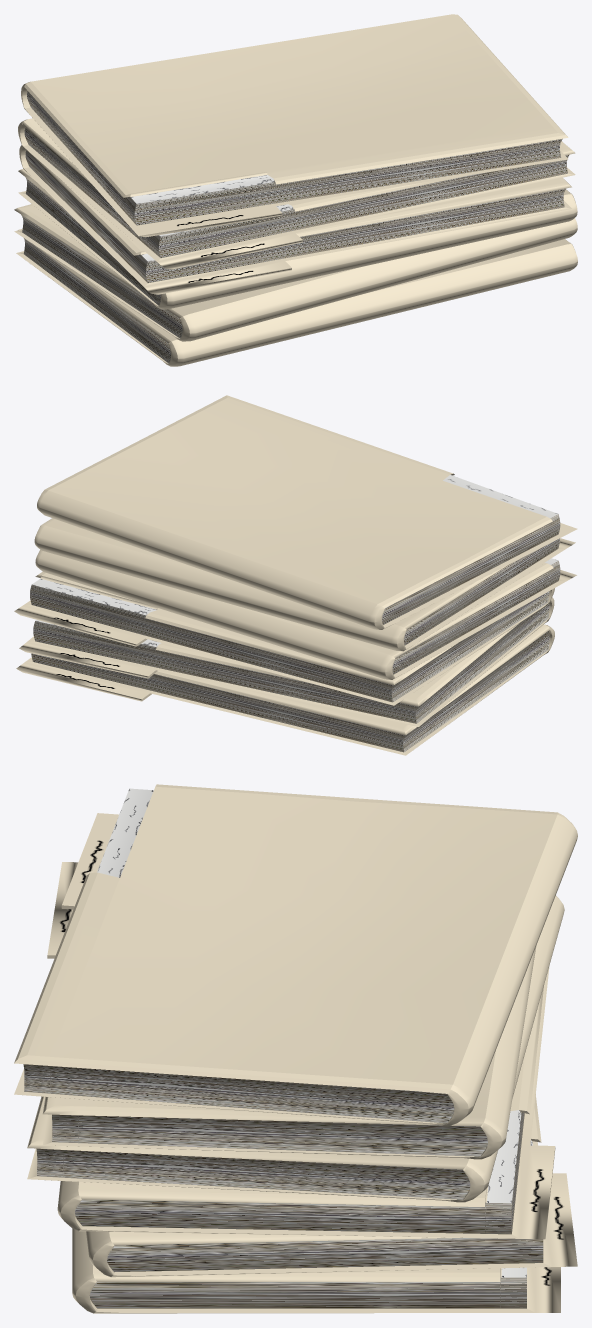
Rendered from AP_FilePile2_CS.fbx.
3 views of the same model, one above another, from view 1: azimuth 30°, elevation 25°; view 2: azimuth 150°, elevation 25°; view 3: azimuth 270°, elevation 25° (orthographic). The views are drawn at different scales.
Parts seen in each view (by area): view 1: filefolder9, filefolder7, filefolder, filefolder5, filefolder8, filefolder6; view 2: filefolder9, filefolder6, filefolder7, filefolder5, filefolder, filefolder8; view 3: filefolder9, filefolder6, filefolder8, filefolder7, filefolder, filefolder5.
Part boxes in pixels (x1=…): filefolder9: x1=21, y1=14, x2=568, y2=237; filefolder7: x1=19, y1=145, x2=571, y2=294; filefolder: x1=16, y1=229, x2=577, y2=366; filefolder5: x1=14, y1=204, x2=577, y2=341; filefolder8: x1=18, y1=118, x2=575, y2=269; filefolder6: x1=18, y1=169, x2=577, y2=309; filefolder9: x1=37, y1=395, x2=577, y2=629; filefolder6: x1=14, y1=571, x2=554, y2=705; filefolder7: x1=35, y1=549, x2=576, y2=679; filefolder5: x1=19, y1=597, x2=554, y2=726; filefolder: x1=16, y1=624, x2=554, y2=755; filefolder8: x1=34, y1=518, x2=575, y2=651; filefolder9: x1=14, y1=784, x2=577, y2=1125; filefolder6: x1=57, y1=965, x2=555, y2=1239; filefolder8: x1=42, y1=862, x2=536, y2=1159; filefolder7: x1=27, y1=895, x2=564, y2=1202; filefolder: x1=72, y1=1094, x2=560, y2=1313; filefolder5: x1=86, y1=1095, x2=577, y2=1277.
Size of the model in its own units: 3.62 by 1.27 by 2.77.
Materials: 1 (1 with a texture image).
